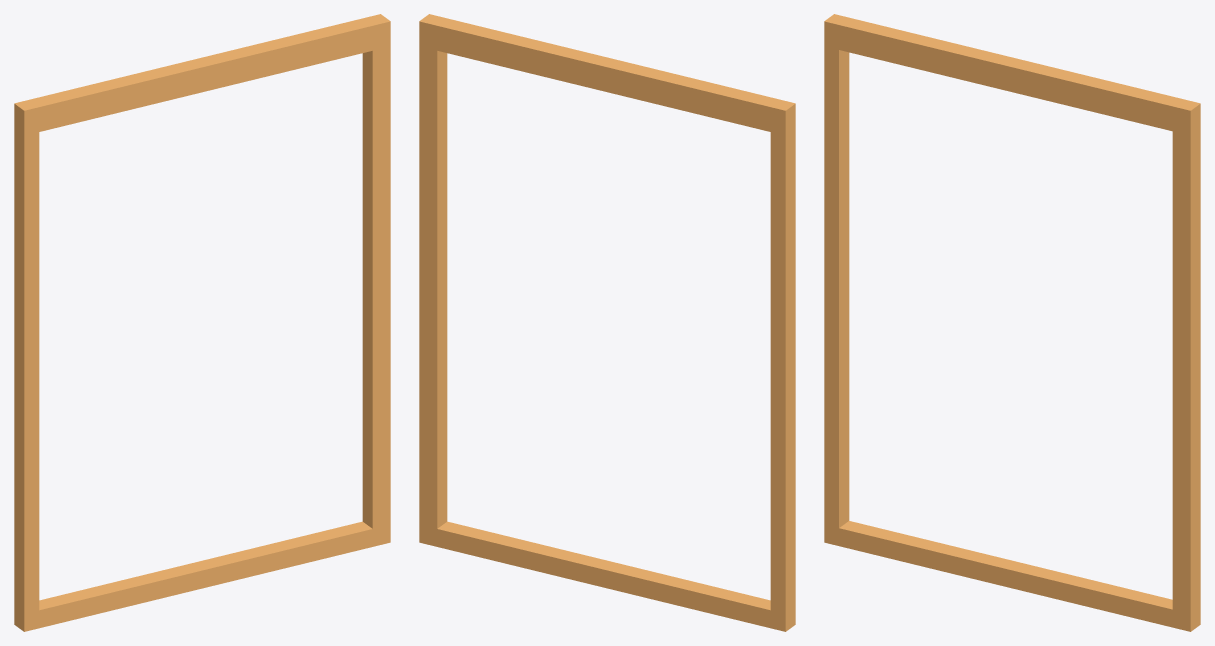
File: frame.fbx
3 views of the same model, side by side, from view 1: azimuth 30°, elevation 25°; view 2: azimuth 150°, elevation 25°; view 3: azimuth 330°, elevation 25° (orthographic).
Visible parts, largest first — view 1: Cube.012; view 2: Cube.012; view 3: Cube.012.
Boxes of the visible parts, x1,y1,x2,y2 form: Cube.012: (14, 14, 390, 631); Cube.012: (419, 14, 795, 631); Cube.012: (824, 14, 1200, 631).
Bounding box in the file's own units: 269 × 366 × 12.84.
